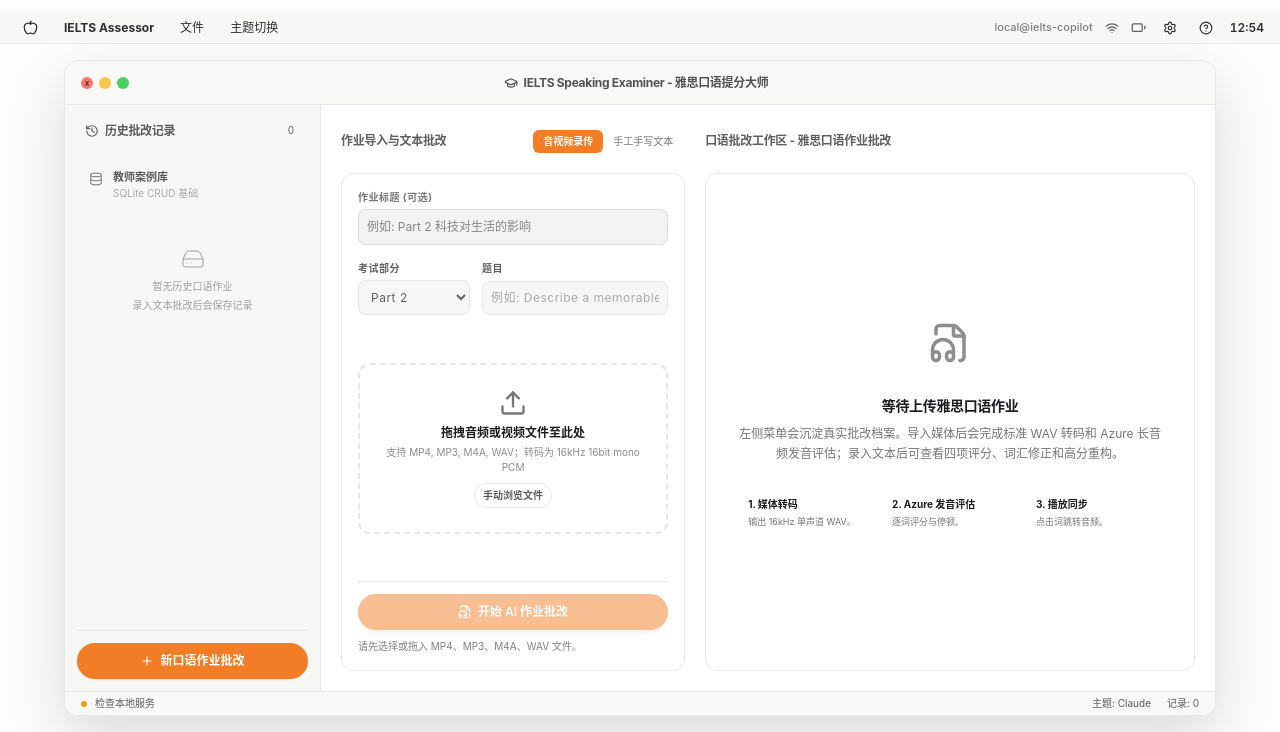
Scenario: App workspace › creates a real history record after DeepSeek text grading succeeds
Click the button "手工手写文本" at (643, 141), box [603,130,683,152]
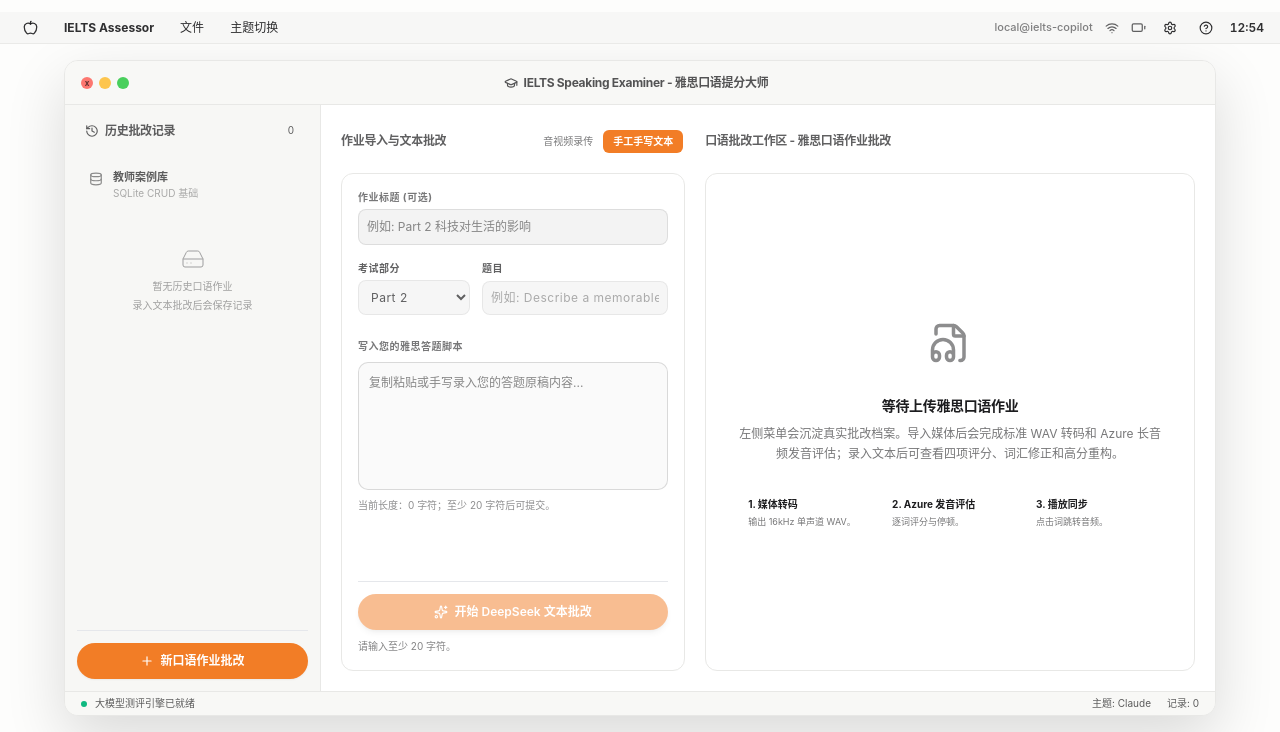
Type "This is a long enough IELTS speaking answer about a happy childhood memory." into the text box with placeholder "复制粘贴或手写录入您的答题原稿内容..." at (513, 426), box [358,362,668,490]
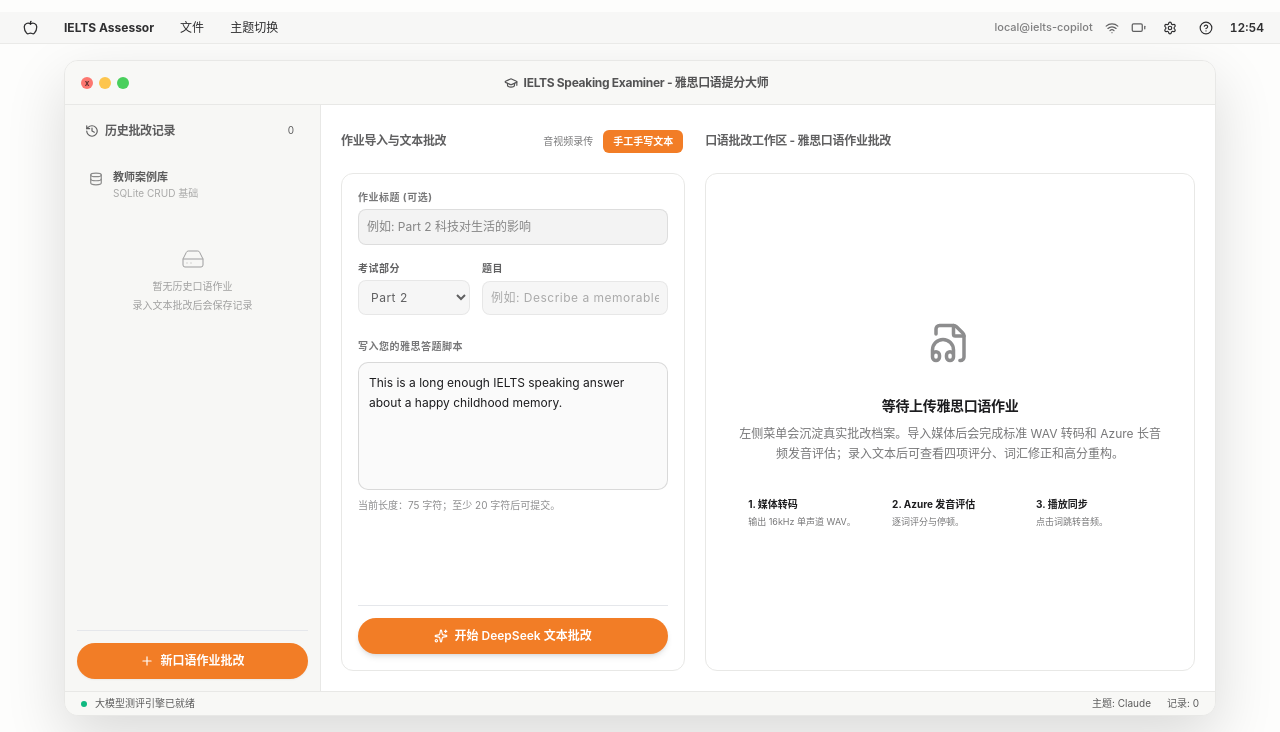
Click the button "开始 DeepSeek 文本批改" at (513, 636), box [358,618,668,654]
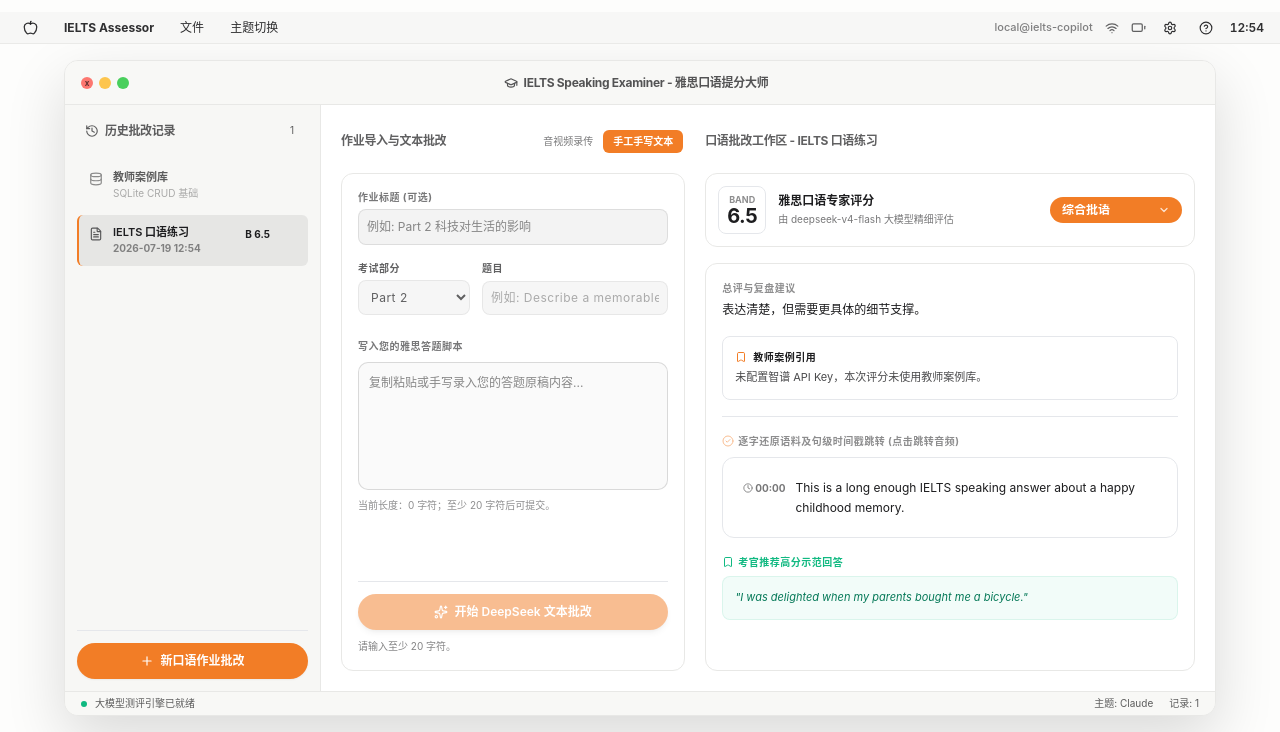
Check: the text "表达清楚，但需要更具体的细节支撑。" is shown, box [722,302,926,317]
Check: the text "\"I was delighted when my parents bought me a bicycle.\"" is shown, box [722,576,1178,620]
Check: the text "B 6.5" is shown, box [245,228,270,240]
